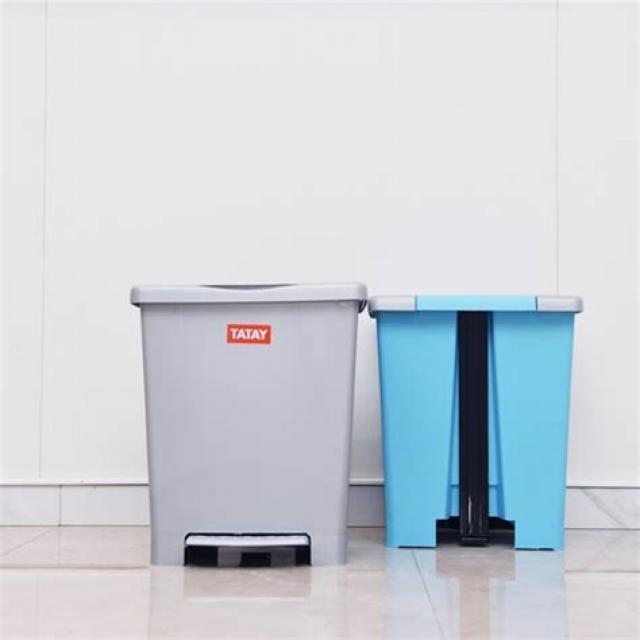garbage container: (98, 249, 372, 581), (366, 275, 596, 560)
